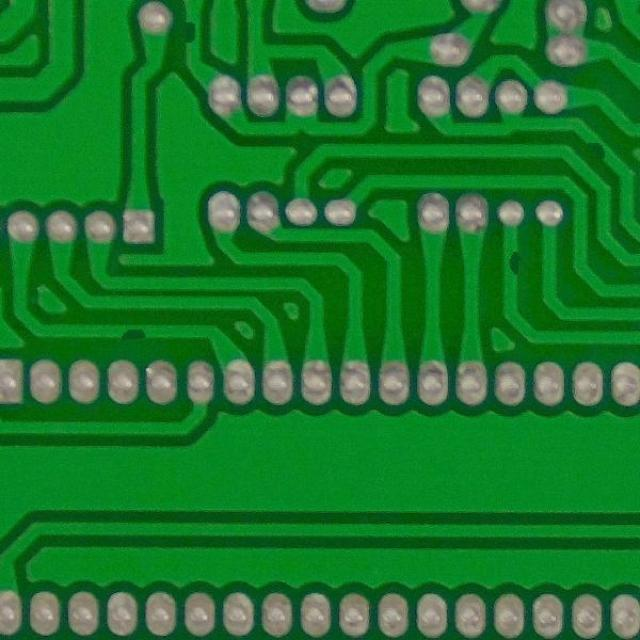MouseBite: (581, 134, 622, 168), (498, 244, 526, 282), (111, 320, 157, 343), (180, 16, 207, 51)
